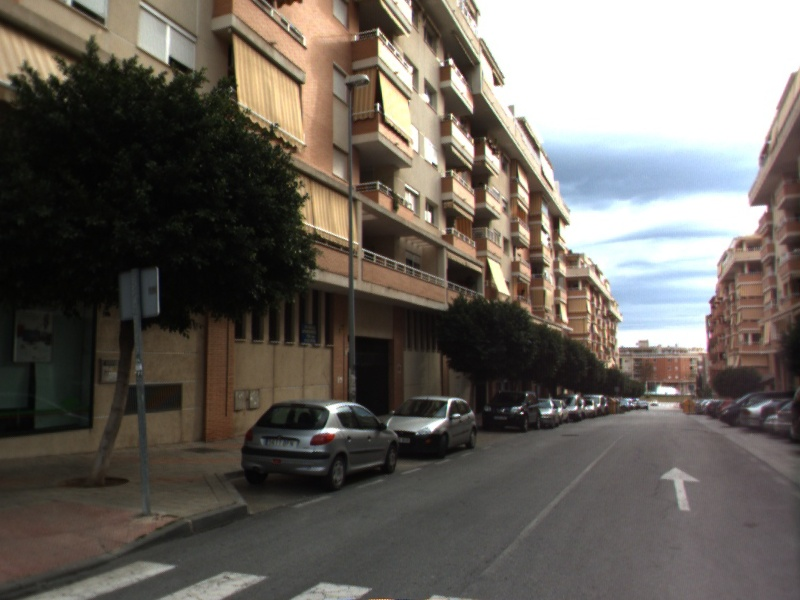STRAIGHT: (658, 465, 702, 512)
